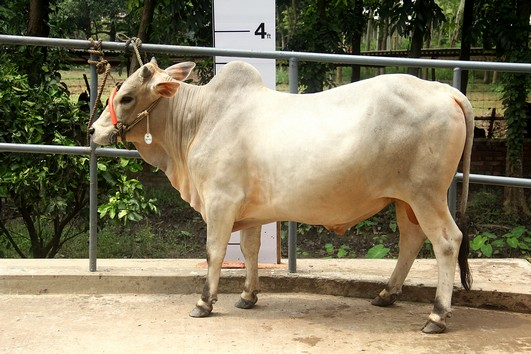cow: (81, 53, 478, 333)
